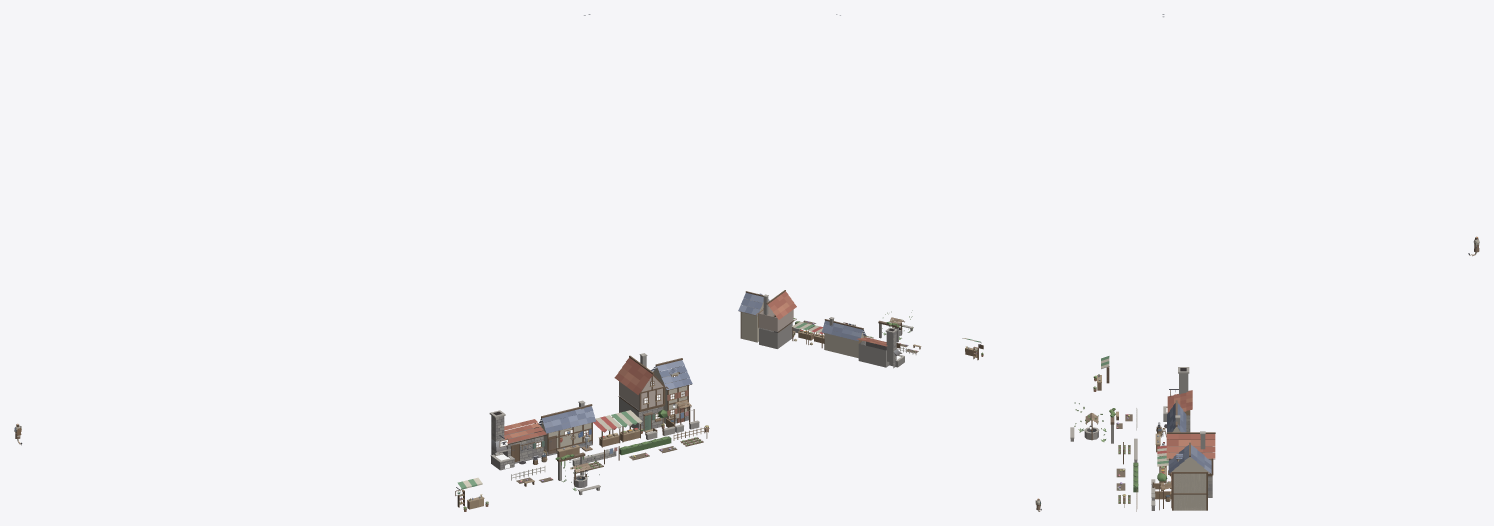
File: distrito_ligero.glb
3 views of the same model, side by side, from view 1: azimuth 30°, elevation 25°; view 2: azimuth 150°, elevation 25°; view 3: azimuth 270°, elevation 25° (orthographic). The views are drawn at different scales.
Parts seen in each view (by area): view 1: bajo, edif_casa_a, edif_herreria, edif_armeria, edif_casa_b; view 2: edif_casa_a, bajo, edif_herreria, edif_armeria, edif_casa_b; view 3: bajo, edif_casa_b, edif_casa_a, edif_herreria, edif_armeria.
Part boxes in pixels (x1,y1,x2,y2): bajo: (455, 14, 709, 511); edif_casa_a: (614, 353, 668, 431); edif_herreria: (489, 410, 546, 470); edif_armeria: (538, 400, 596, 455); edif_casa_b: (651, 358, 692, 424); edif_casa_a: (756, 290, 796, 348); bajo: (774, 14, 983, 360); edif_herreria: (856, 327, 904, 368); edif_armeria: (822, 317, 866, 358); edif_casa_b: (738, 291, 769, 342); bajo: (1070, 14, 1171, 511); edif_casa_b: (1161, 442, 1211, 510); edif_casa_a: (1166, 431, 1215, 497); edif_herreria: (1163, 367, 1192, 432); edif_armeria: (1167, 400, 1186, 432).
Size of the model in its own units: 67.63 by 53.79 by 44.62.
